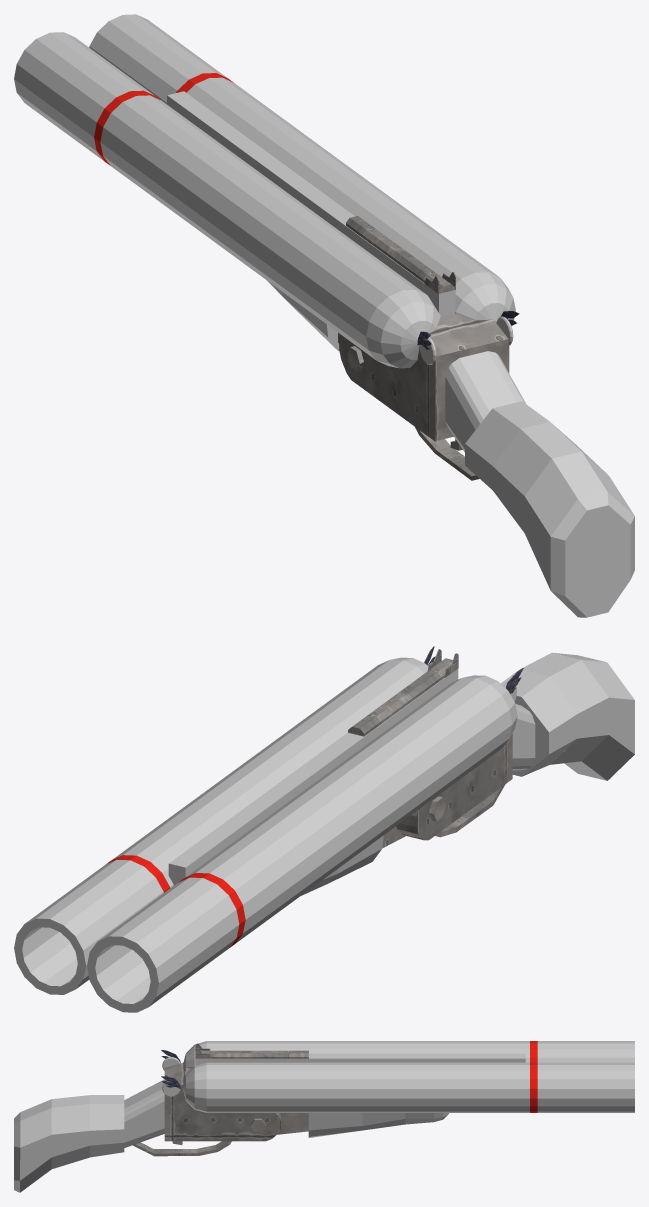
Rendered from Shotgun.fbx.
3 views of the same model, one above another, from view 1: azimuth 30°, elevation 25°; view 2: azimuth 150°, elevation 25°; view 3: azimuth 270°, elevation 25° (orthographic). The views are drawn at different scales.
Visible parts, largest first — view 1: Ствол, Приклад, Ствол.002, Ствольная коробка, Соединение ствола, Мушка, Ствол.001, Предохранитель/спуск.крючок; view 2: Ствол, Ствол.002, Приклад, Соединение ствола, Ствольная коробка, Мушка, Ствол.001, Цевье, Предохранитель/спуск.крючок; view 3: Ствол, Приклад, Ствол.002, Ствольная коробка, Соединение ствола, Цевье, Мушка, Предохранитель/спуск.крючок, Ствол.001.
Boxes of the visible parts, x1=… form: Ствол: x1=100, y1=77, x2=515, y2=368; Приклад: x1=445, y1=351, x2=634, y2=617; Ствол.002: x1=14, y1=14, x2=226, y2=160; Ствольная коробка: x1=338, y1=313, x2=509, y2=441; Соединение ствола: x1=167, y1=91, x2=455, y2=316; Мушка: x1=346, y1=216, x2=455, y2=293; Ствол.001: x1=94, y1=73, x2=233, y2=165; Предохранитель/спуск.крючок: x1=415, y1=427, x2=479, y2=480; Ствол: x1=112, y1=657, x2=517, y2=943; Ствол.002: x1=14, y1=859, x2=239, y2=1012; Приклад: x1=501, y1=652, x2=634, y2=780; Соединение ствола: x1=168, y1=669, x2=458, y2=885; Ствольная коробка: x1=382, y1=733, x2=512, y2=848; Мушка: x1=348, y1=649, x2=458, y2=736; Ствол.001: x1=105, y1=855, x2=245, y2=947; Цевье: x1=301, y1=835, x2=383, y2=895; Предохранитель/спуск.крючок: x1=435, y1=771, x2=512, y2=837; Ствол: x1=182, y1=1041, x2=529, y2=1112; Приклад: x1=14, y1=1079, x2=164, y2=1192; Ствол.002: x1=537, y1=1041, x2=634, y2=1112; Ствольная коробка: x1=164, y1=1063, x2=308, y2=1141; Соединение ствола: x1=195, y1=1053, x2=525, y2=1065; Цевье: x1=308, y1=1113, x2=448, y2=1137; Мушка: x1=195, y1=1043, x2=308, y2=1058; Предохранитель/спуск.крючок: x1=133, y1=1141, x2=231, y2=1156; Ствол.001: x1=530, y1=1041, x2=537, y2=1112.
Bounding box in the file's own units: 29.94 × 46.09 × 183.
